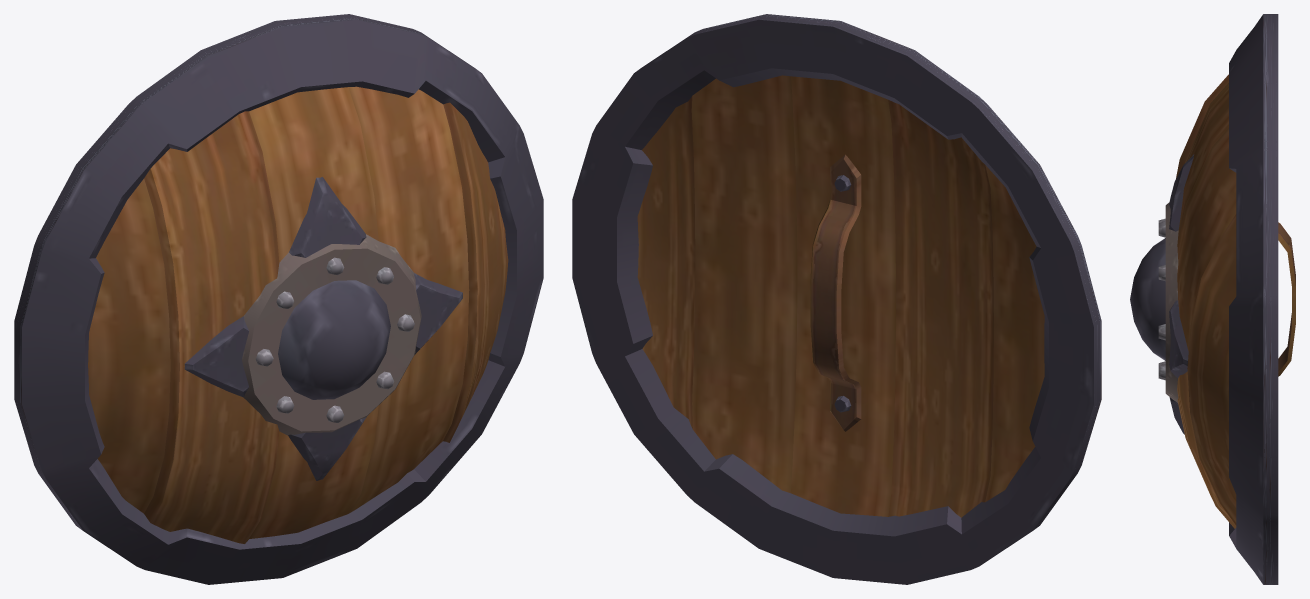
Rendered from Shield_Wooden.glb.
The picture shows the model from 3 angles, left to right: view 1: azimuth 30°, elevation 25°; view 2: azimuth 150°, elevation 25°; view 3: azimuth 270°, elevation 25°; orthographic projection. The views are drawn at different scales.
Parts seen in each view (by area): view 1: Shield_Wooden; view 2: Shield_Wooden; view 3: Shield_Wooden.
Part boxes in pixels (x1,y1,x2,y2): Shield_Wooden: (14,14,543,584); Shield_Wooden: (572,14,1101,584); Shield_Wooden: (1130,14,1295,584).
Bounding box in the file's own units: 0.6146 × 0.6209 × 0.1788.
3 materials, 3 textured.
